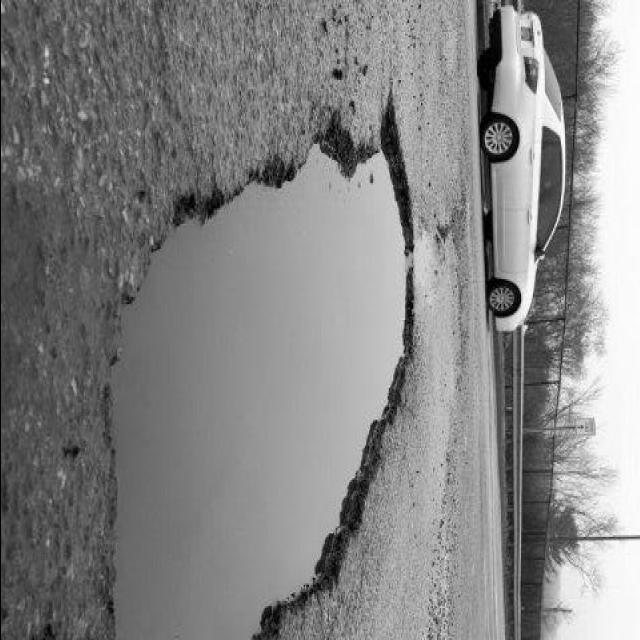jalan retak: (420, 120, 480, 372)
lubang: (86, 86, 426, 640)
